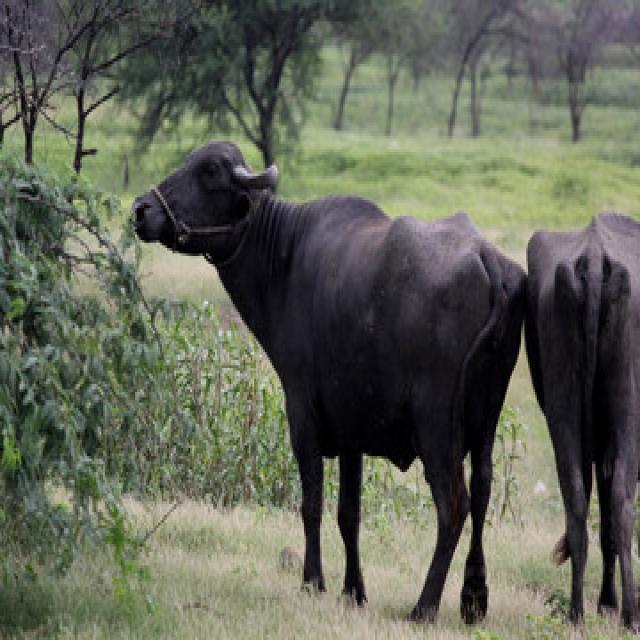Buffalo: (127, 145, 527, 625)
